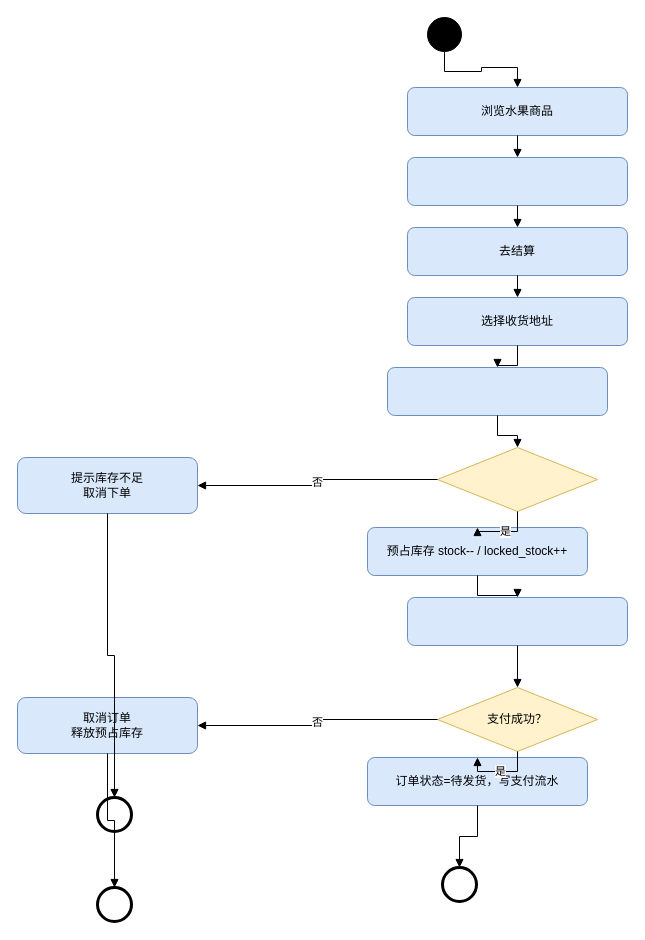
Some shapes in this 645 by 940 pixel diagram are drawn without their labels. The shapes that lost their labels are listed below. From the top down, each one's centre as x and y in pixels, then its label:
point (517, 181): 加入购物车
point (497, 391): 提交订单（服务端重算金额）
point (517, 479): 库存充足？
point (517, 621): 模拟支付
